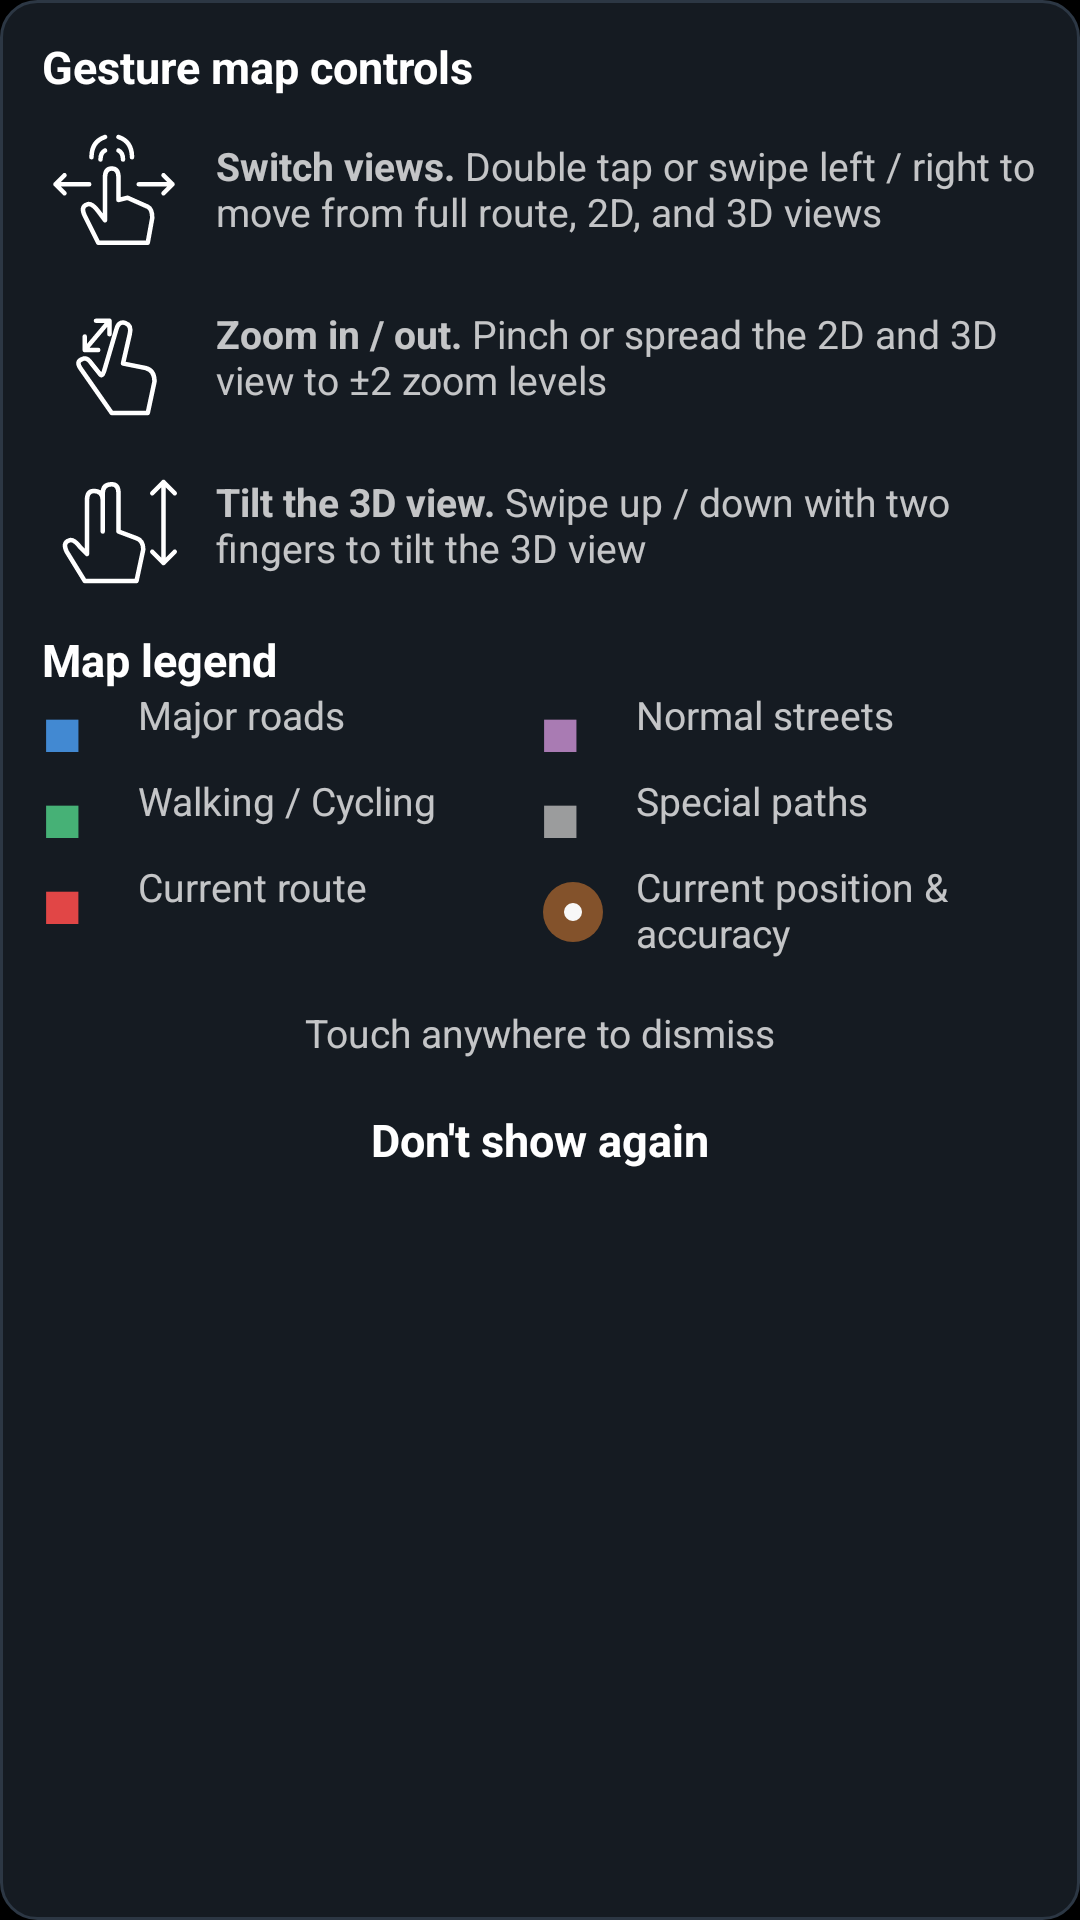

Icons on this 1080x1920 Android screen, each with the point to tap as [x,y]:
gesture tilt: [119,531]
gesture views: [114,189]
gesture zoom: [116,367]
legend position accuracy: [573,912]
